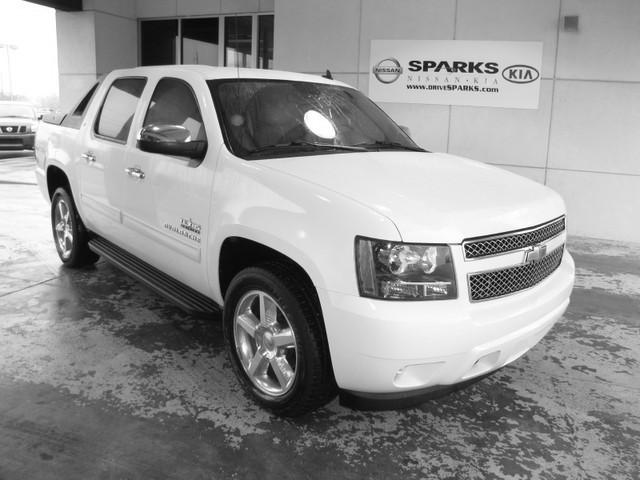car: (35, 66, 573, 420)
